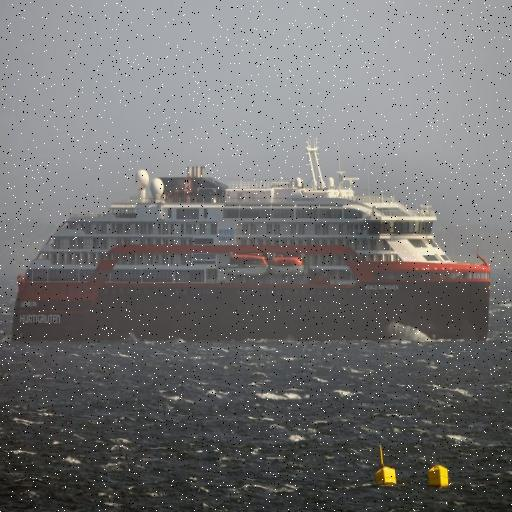cruises: (10, 129, 494, 344)
